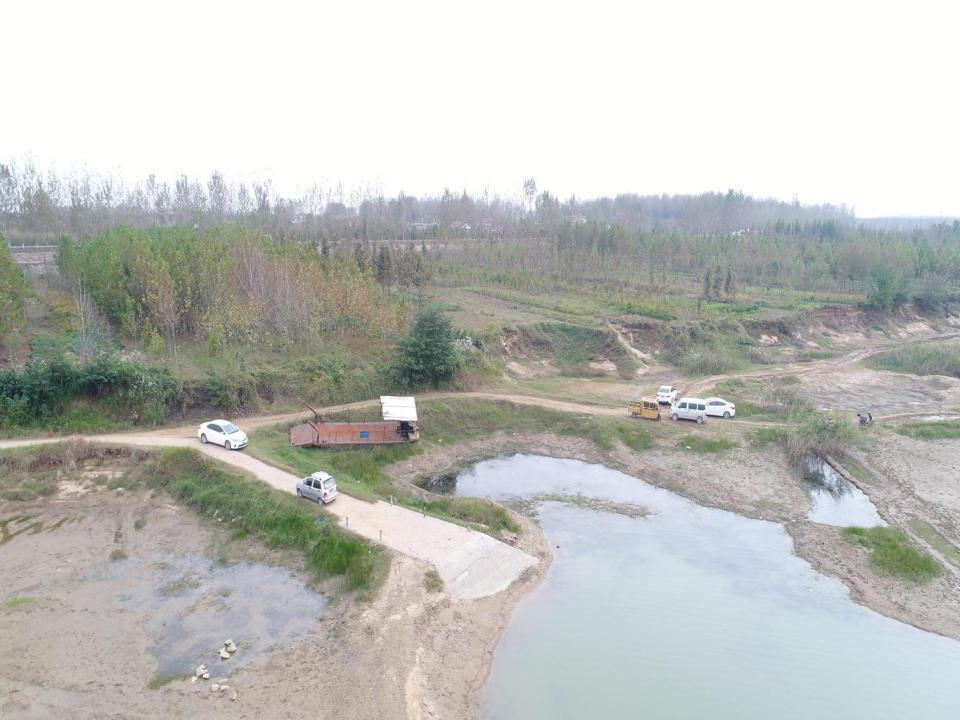car: (197, 419, 248, 451), (296, 470, 338, 507), (699, 398, 735, 419), (656, 385, 677, 406)
van: (669, 397, 707, 424)
